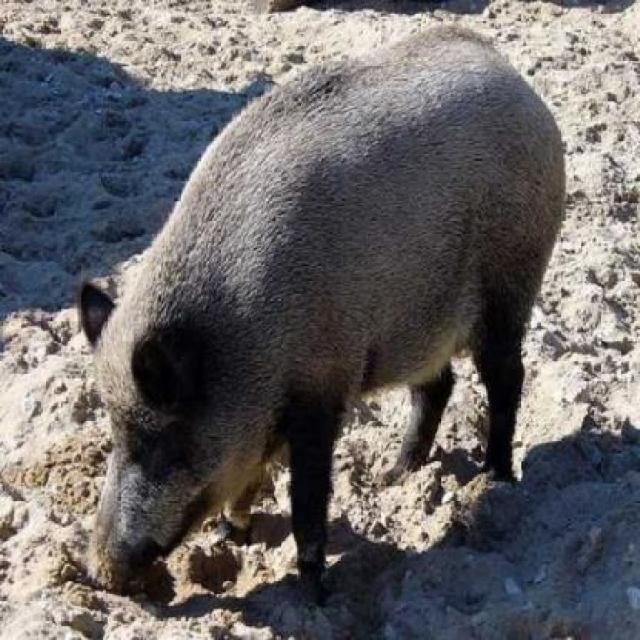Boar: (51, 37, 580, 631)
